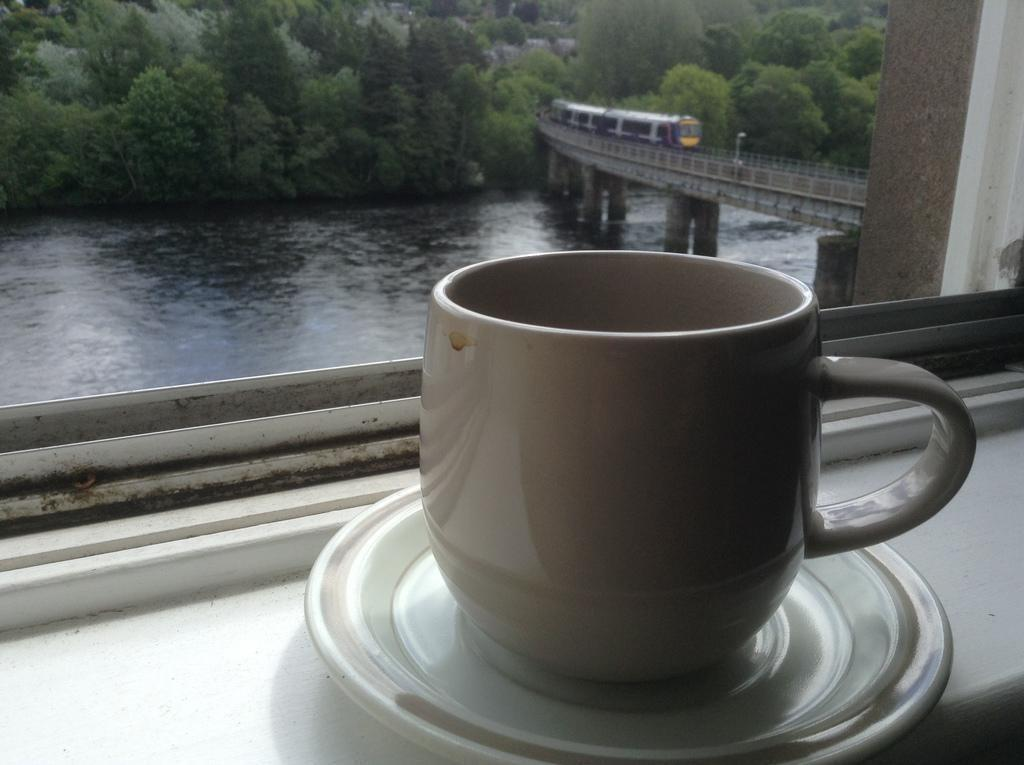cup-handle: (417, 248, 980, 687)
